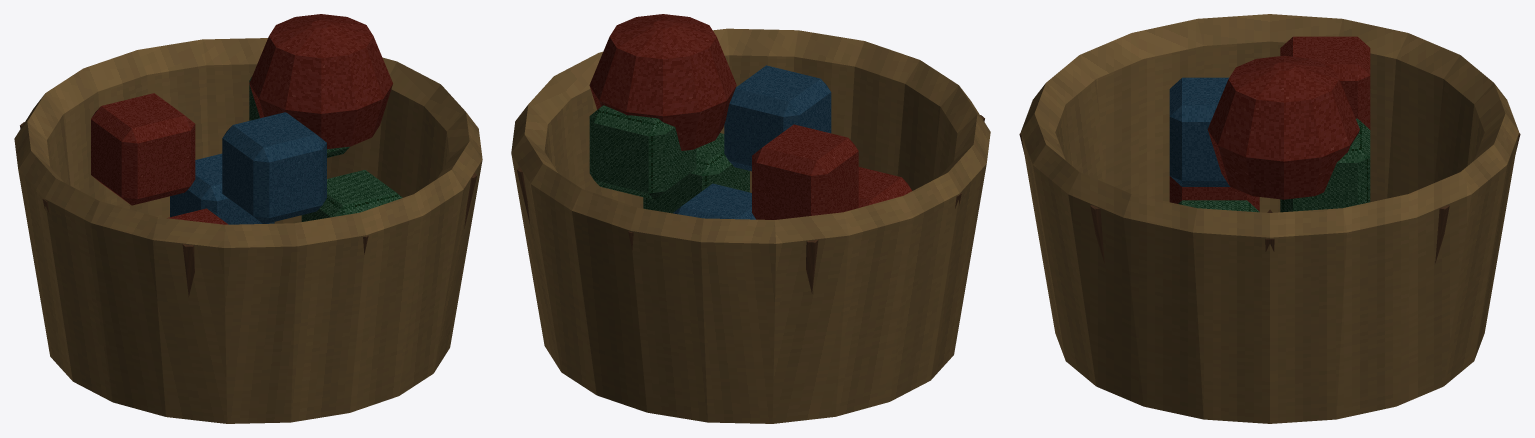
File: level_lived_toy_basket.glb
3 renders of one model, left to right at view 1: azimuth 30°, elevation 25°; view 2: azimuth 150°, elevation 25°; view 3: azimuth 270°, elevation 25°, orthographic. The views are drawn at different scales.
Parts seen in each view (by area): view 1: level_lived_toy_basket; view 2: level_lived_toy_basket; view 3: level_lived_toy_basket.
Part boxes in pixels (left/top/right/bottom): level_lived_toy_basket: left=14, top=14, right=482, bottom=423; level_lived_toy_basket: left=511, top=14, right=990, bottom=423; level_lived_toy_basket: left=1019, top=14, right=1520, bottom=423.
Bounding box in the file's own units: 0.7203 × 0.52 × 0.7234.
5 materials, 5 textured.
